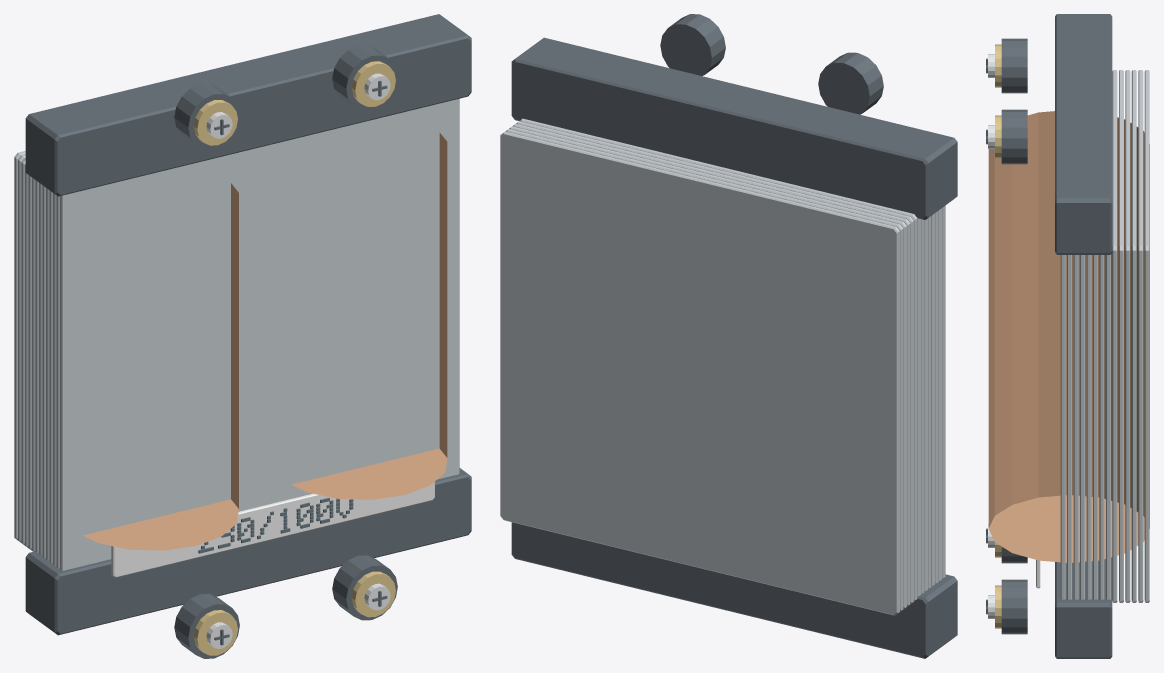
The model's file is voltageTransformer.glb.
3 renders of one model, left to right at view 1: azimuth 30°, elevation 25°; view 2: azimuth 150°, elevation 25°; view 3: azimuth 270°, elevation 25°, orthographic. The views are drawn at different scales.
Parts seen in each view (by area): view 1: voltageTransformer-preview; view 2: voltageTransformer-preview; view 3: voltageTransformer-preview.
Boxes of the visible parts, x1=… form: voltageTransformer-preview: x1=14, y1=14, x2=471, y2=658; voltageTransformer-preview: x1=500, y1=14, x2=957, y2=658; voltageTransformer-preview: x1=986, y1=14, x2=1149, y2=658.
Size of the model in its own units: 2.53 by 3.27 by 0.9344.
